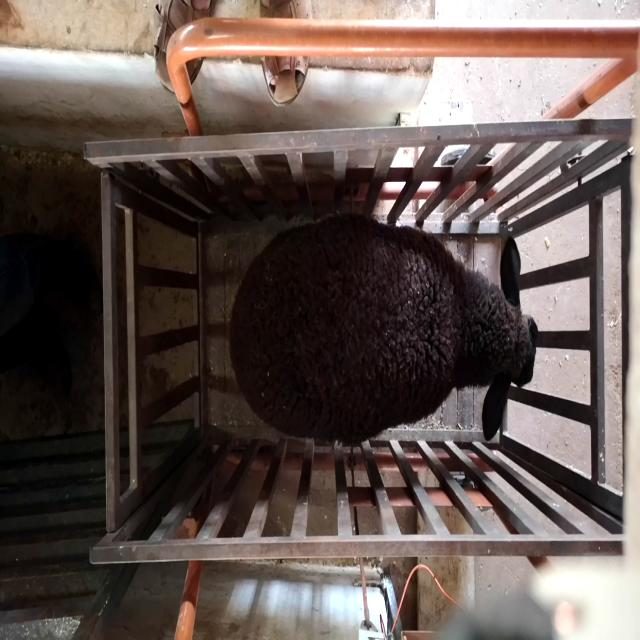sheep: (228, 210, 538, 445)
